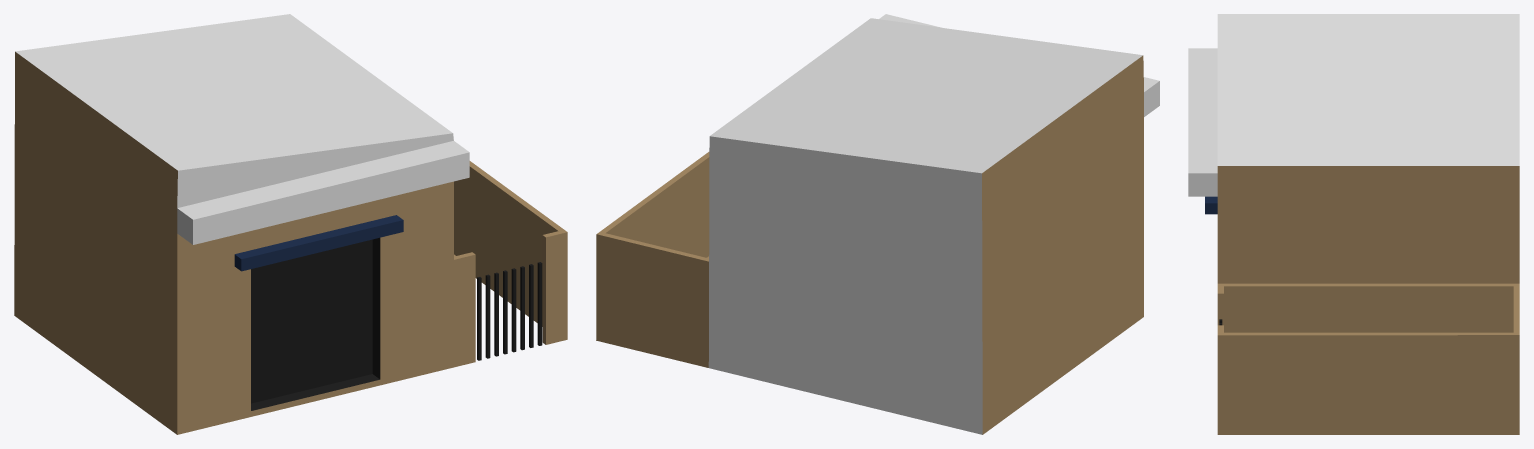
Rendered from loja_21.fbx.
3 renders of one model, left to right at view 1: azimuth 30°, elevation 25°; view 2: azimuth 150°, elevation 25°; view 3: azimuth 270°, elevation 25°, orthographic. The views are drawn at different scales.
Parts seen in each view (by area): view 1: Cube; view 2: Cube; view 3: Cube.
Boxes of the visible parts, x1,y1,x2,y2 form: Cube: (14,14,567,434); Cube: (596,14,1159,434); Cube: (1188,14,1519,434).
Bounding box in the file's own units: 1420 × 919 × 1127.
